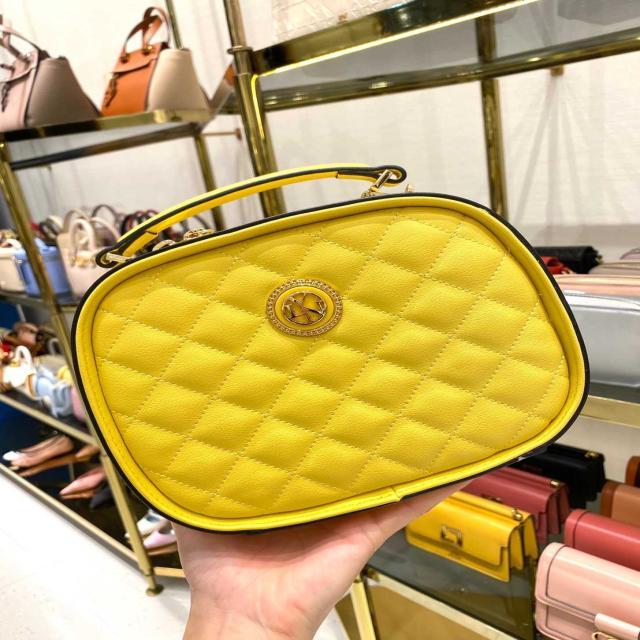Handbag: (73, 167, 592, 535)
